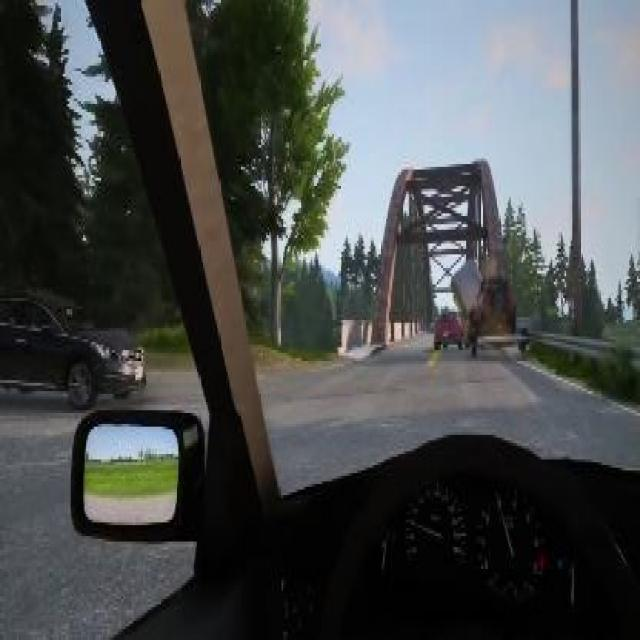accident: (431, 262, 494, 353)
